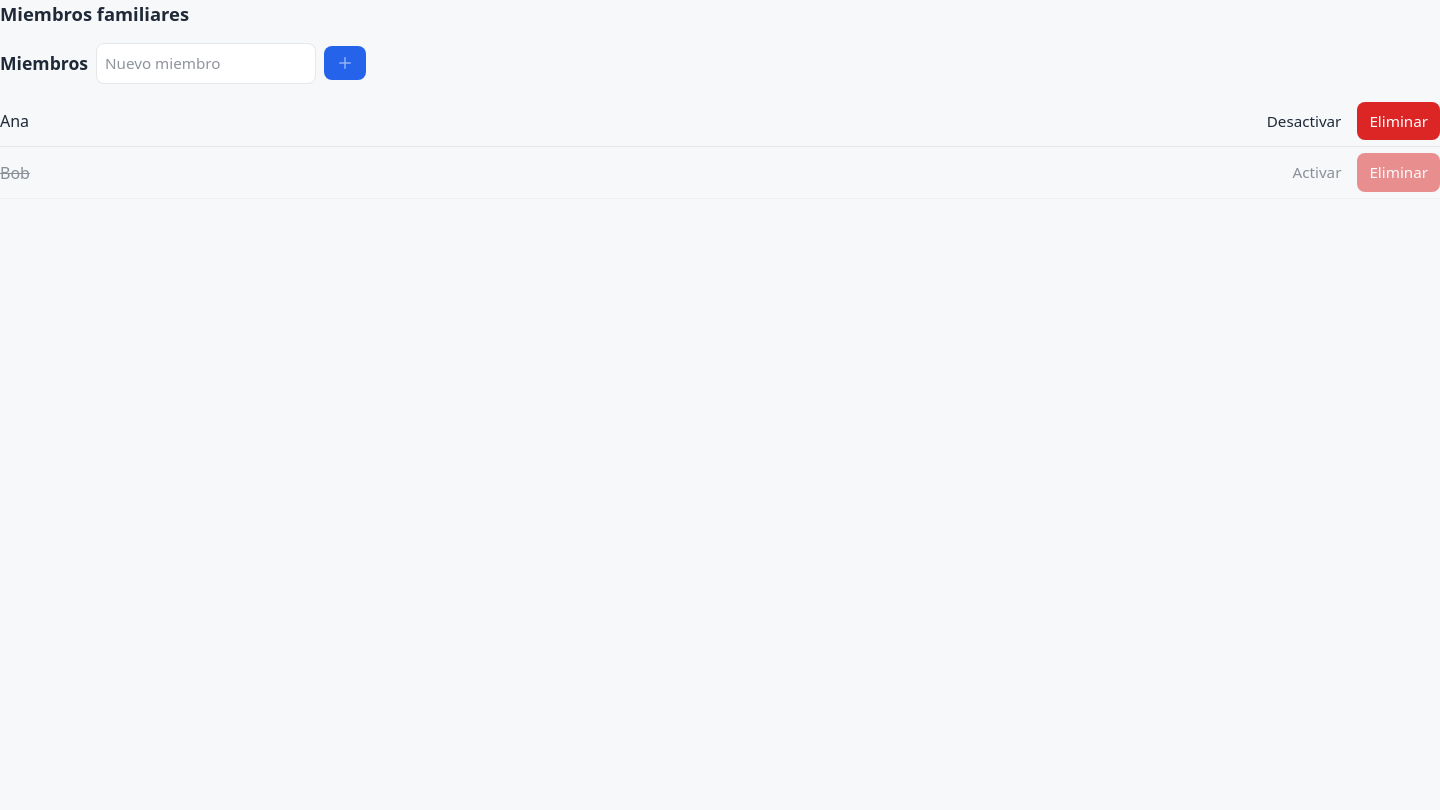
Test: PersonsConfig › cancels the delete confirmation
Click the 1st button "Eliminar".
click(1399, 121)  # box [1357,102,1439,140]
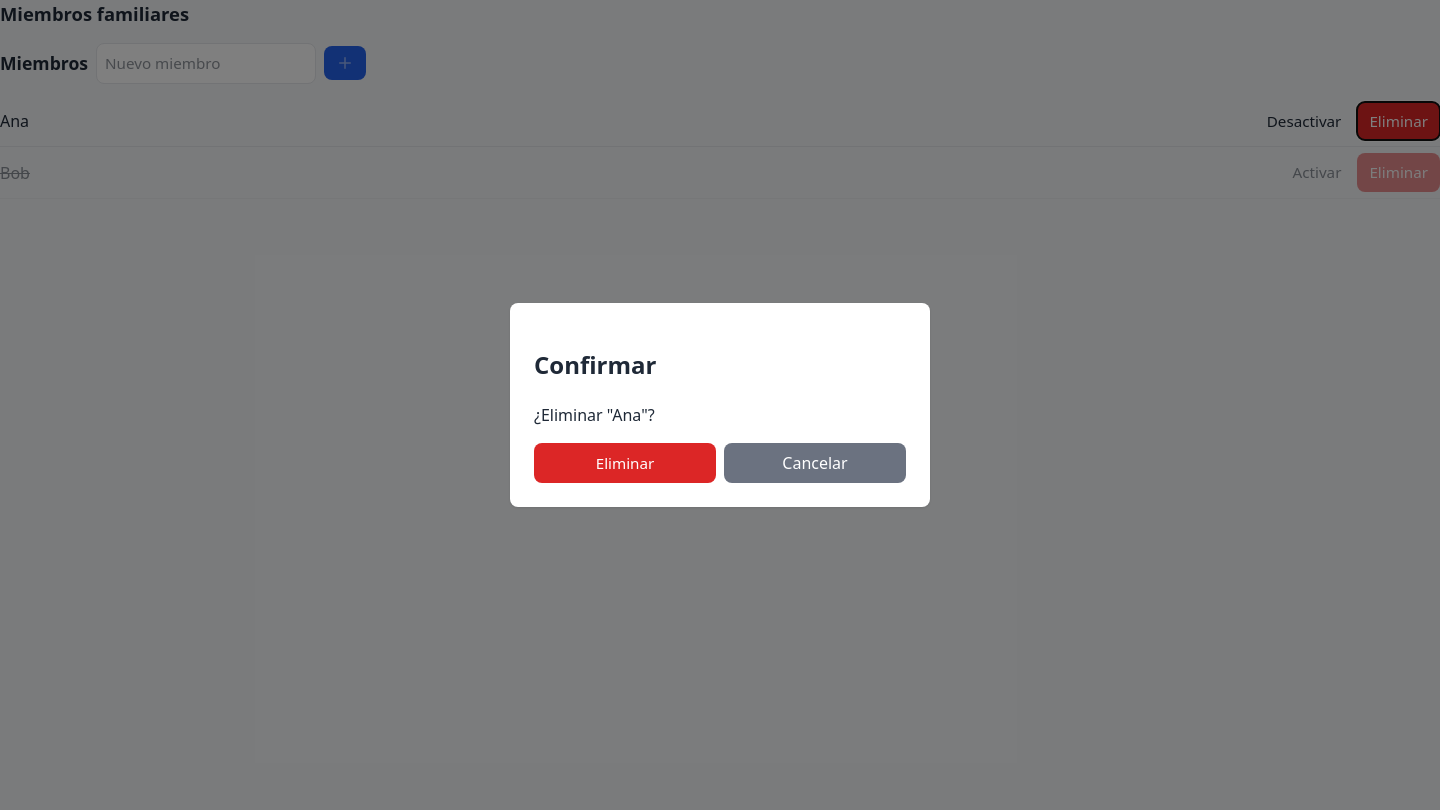
Click the button "Cancelar".
click(815, 463)  # box [724,443,906,483]
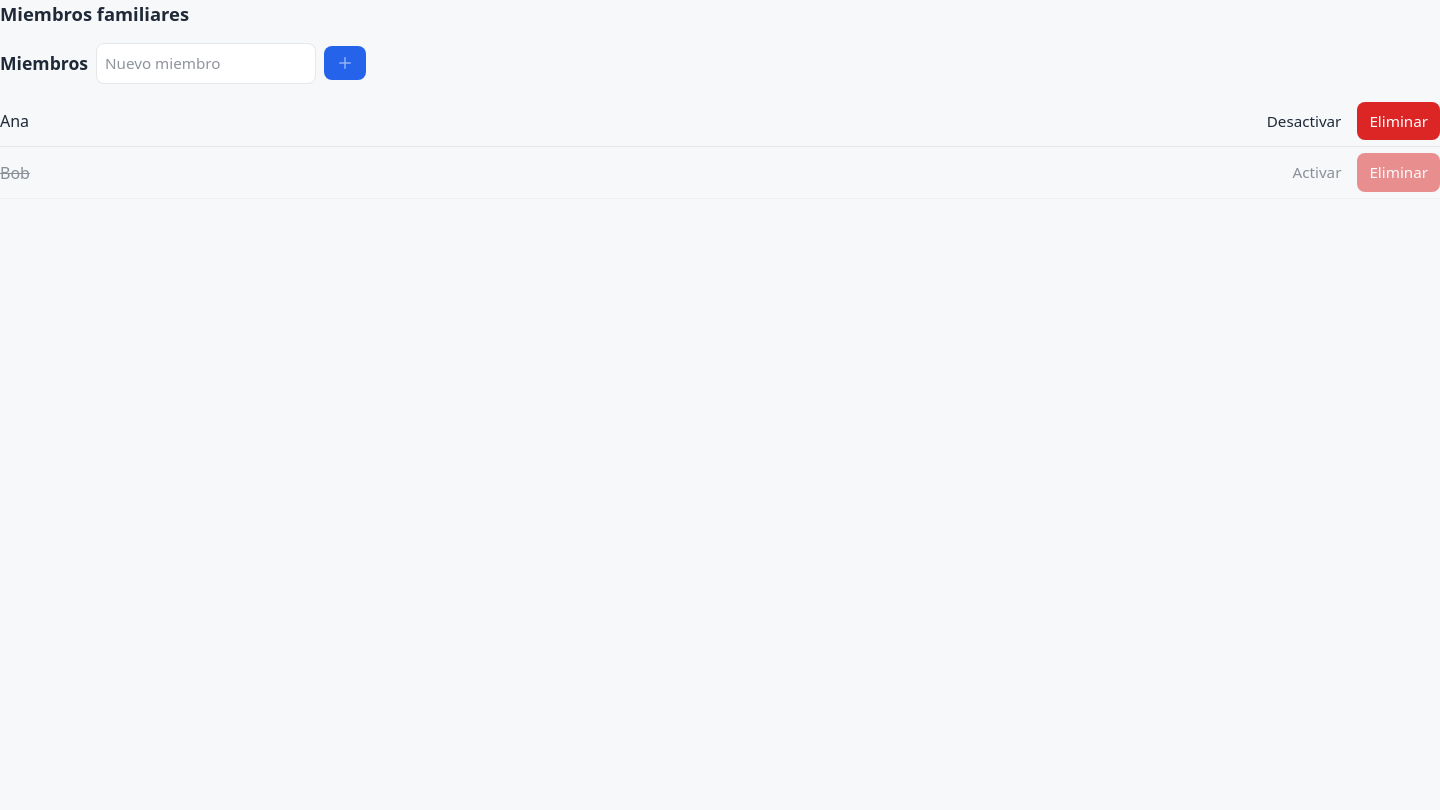
expect the text "¿Eliminar \"Ana\"?" is gone: met
